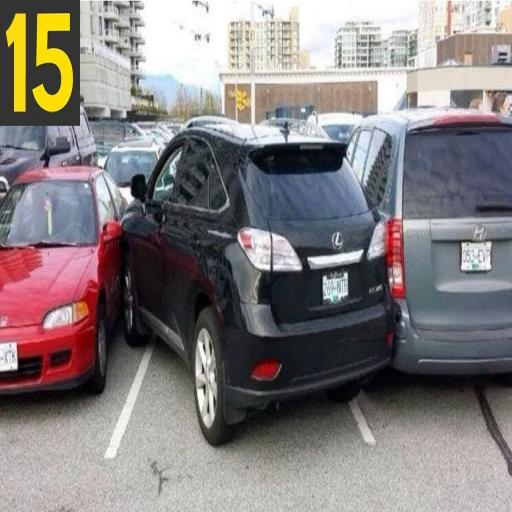Illegal-parking: (104, 36, 402, 408)
